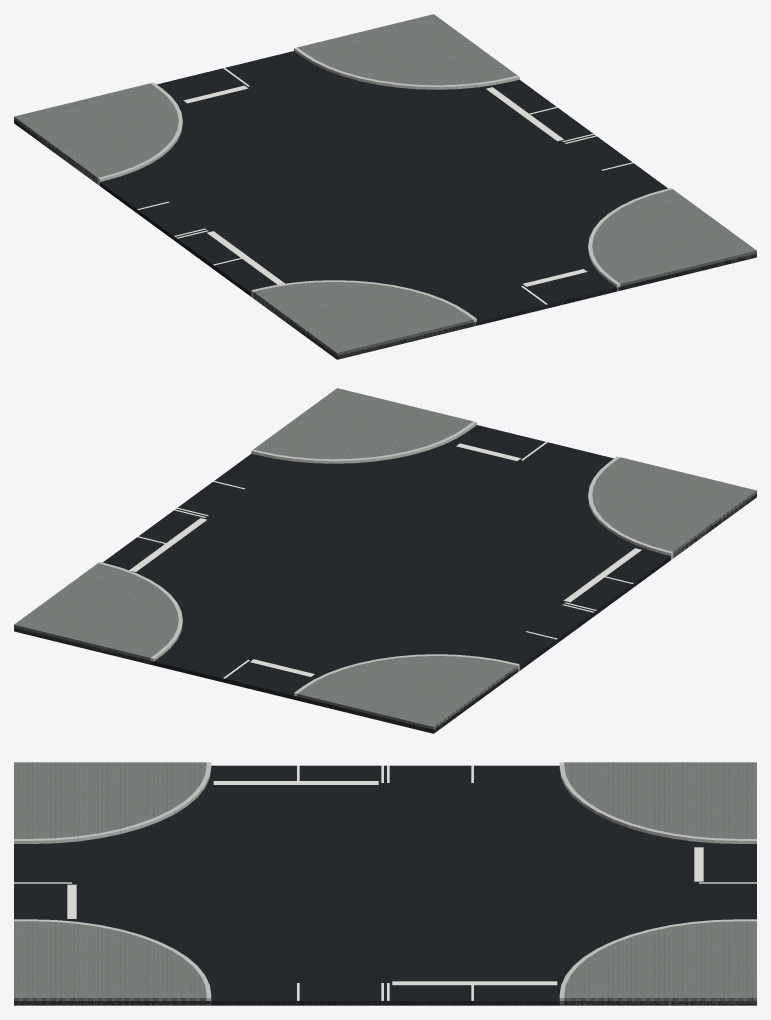
The model's file is RK3_Cross_4x2_Plain_24x32m.fbx.
3 views of the same model, one above another, from view 1: azimuth 30°, elevation 25°; view 2: azimuth 150°, elevation 25°; view 3: azimuth 270°, elevation 25° (orthographic). The views are drawn at different scales.
Parts seen in each view (by area): view 1: COL_Asphalt, COL_Paving, COL_Concrete, Markings_White, Curb_Concrete; view 2: COL_Asphalt, COL_Paving, COL_Concrete, Markings_White, Curb_Concrete; view 3: COL_Asphalt, COL_Paving, COL_Concrete, Markings_White, Curb_Concrete.
Part boxes in pixels (x1,y1,x2,y2): COL_Asphalt: (14, 51, 756, 359); COL_Paving: (14, 14, 756, 358); COL_Concrete: (97, 47, 672, 325); Markings_White: (137, 67, 633, 304); Curb_Concrete: (99, 47, 671, 319); COL_Asphalt: (14, 425, 756, 733); COL_Paving: (14, 388, 756, 733); COL_Concrete: (98, 421, 673, 696); Markings_White: (129, 441, 641, 678); Curb_Concrete: (101, 422, 670, 692); COL_Asphalt: (14, 765, 756, 1005); COL_Paving: (14, 762, 756, 1005); COL_Concrete: (14, 762, 756, 1005); Markings_White: (14, 765, 756, 1000); Curb_Concrete: (14, 762, 756, 997).
Bounding box in the file's own units: 2400 × 37 × 3200.
